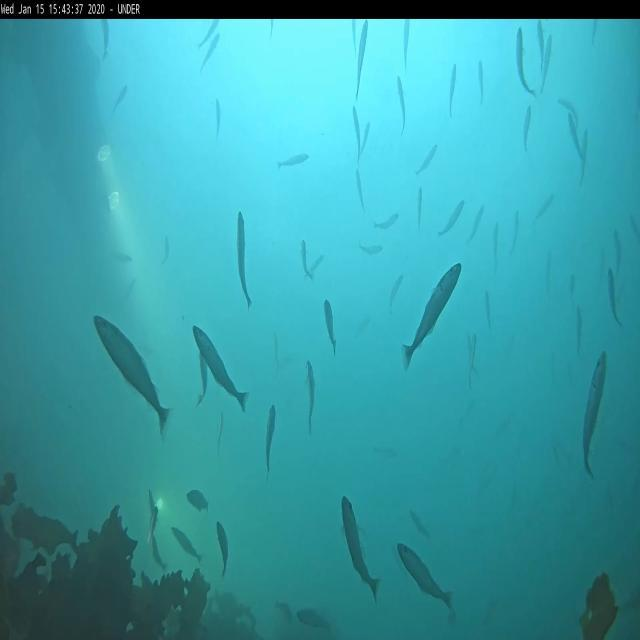fish: (94, 312, 171, 440), (402, 263, 461, 370), (191, 327, 247, 413), (338, 496, 379, 600), (398, 546, 454, 611), (587, 355, 608, 479), (516, 29, 536, 96), (236, 213, 250, 305), (171, 528, 203, 566), (356, 22, 369, 98), (304, 362, 316, 434), (265, 406, 276, 482), (199, 34, 221, 72), (297, 610, 331, 634), (440, 203, 466, 233), (608, 272, 622, 326), (540, 33, 552, 90), (197, 354, 210, 406), (216, 520, 228, 576), (579, 128, 589, 188), (396, 76, 406, 136), (324, 300, 335, 354), (410, 509, 430, 538), (465, 208, 482, 242), (186, 488, 210, 512), (558, 98, 578, 126), (448, 64, 458, 119), (568, 115, 582, 154), (416, 148, 437, 174), (146, 508, 158, 548), (300, 240, 312, 280), (389, 276, 404, 308), (152, 534, 166, 568), (200, 20, 218, 45), (373, 211, 398, 229), (278, 152, 310, 166), (536, 196, 556, 218), (469, 333, 477, 385), (305, 255, 323, 278), (404, 20, 412, 70), (524, 107, 532, 152), (352, 106, 358, 166), (356, 167, 364, 210), (359, 242, 383, 256), (214, 98, 222, 138), (102, 20, 110, 60), (537, 22, 543, 74), (493, 221, 500, 265), (614, 232, 622, 270), (484, 292, 492, 329), (114, 84, 125, 110), (217, 414, 224, 454), (478, 62, 485, 100), (361, 122, 369, 154), (546, 252, 552, 290), (513, 212, 518, 256), (352, 20, 358, 55), (418, 186, 423, 228), (111, 253, 132, 263), (568, 274, 576, 298), (148, 490, 157, 510), (576, 310, 580, 350), (164, 238, 170, 262), (274, 331, 278, 364), (592, 22, 598, 40), (270, 20, 274, 39)
